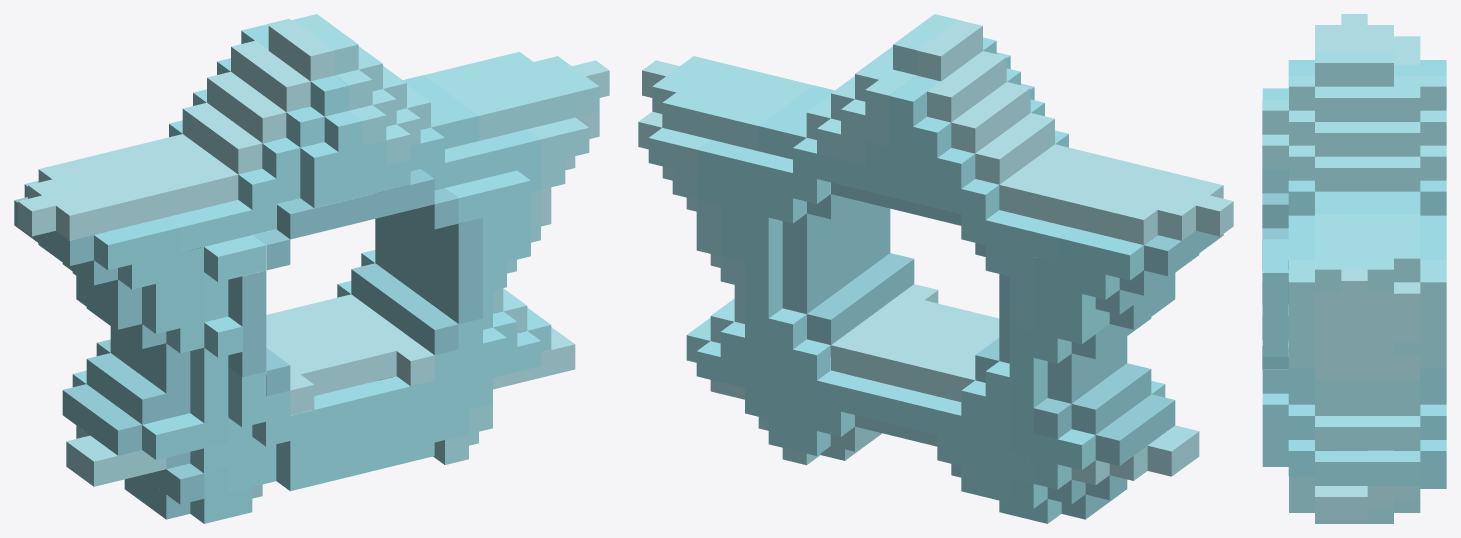
The model's file is 20_constellation_aether.glb.
3 views of the same model, side by side, from view 1: azimuth 30°, elevation 25°; view 2: azimuth 150°, elevation 25°; view 3: azimuth 270°, elevation 25° (orthographic). The views are drawn at different scales.
Bounding box in the file's own units: 24 × 17 × 7.
